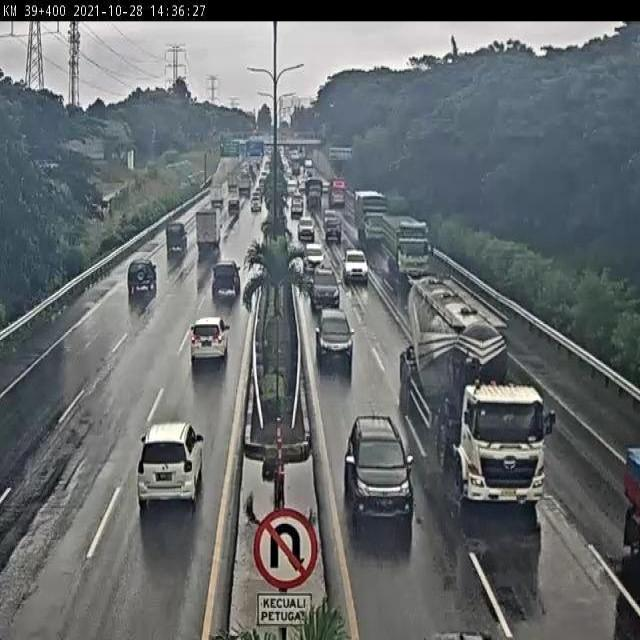big truck: (400, 276, 546, 508), (385, 219, 433, 281), (195, 209, 223, 251)
car: (347, 417, 414, 520), (138, 424, 204, 512), (317, 307, 355, 364), (188, 317, 230, 368), (310, 268, 341, 312), (210, 258, 243, 298), (125, 258, 157, 298), (342, 246, 369, 282), (164, 222, 188, 258), (302, 240, 325, 273), (324, 217, 341, 243), (298, 216, 316, 240)
